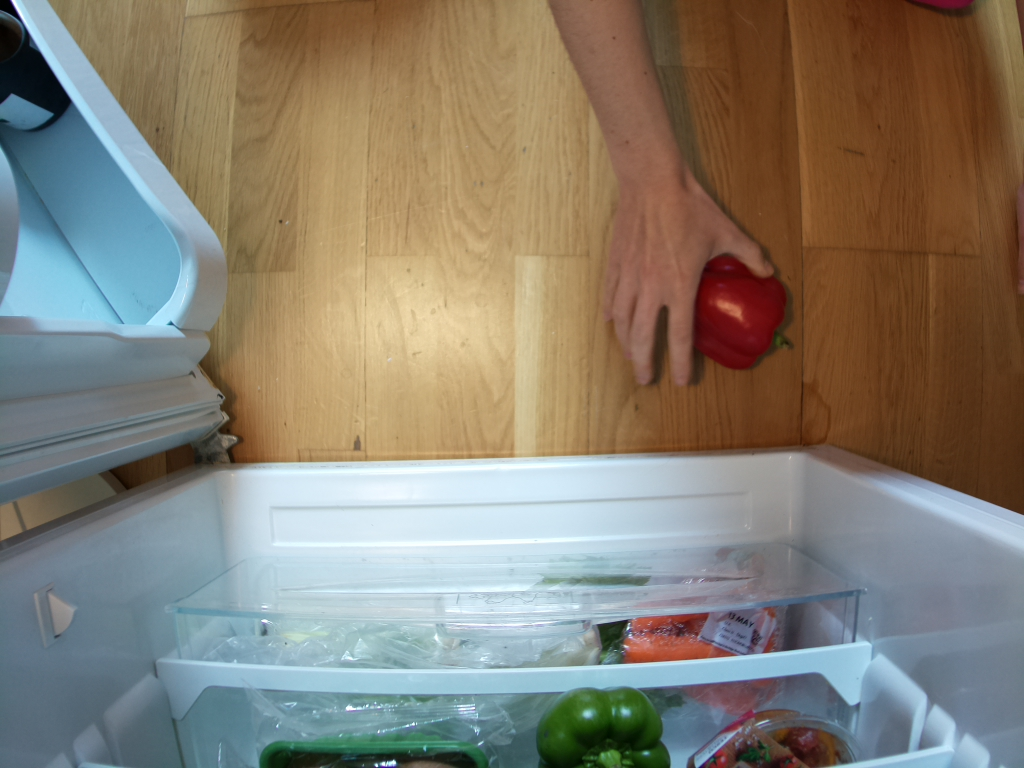pepper: (538, 687, 672, 768), (698, 260, 793, 370)
